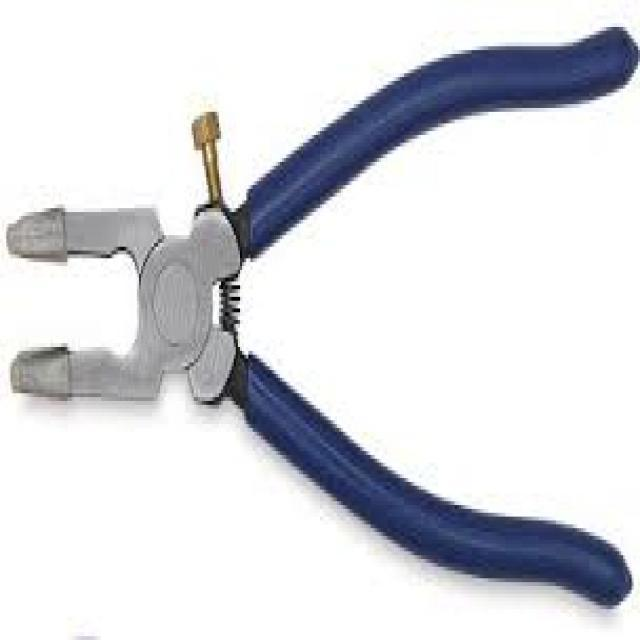pliers: (12, 22, 640, 594)
